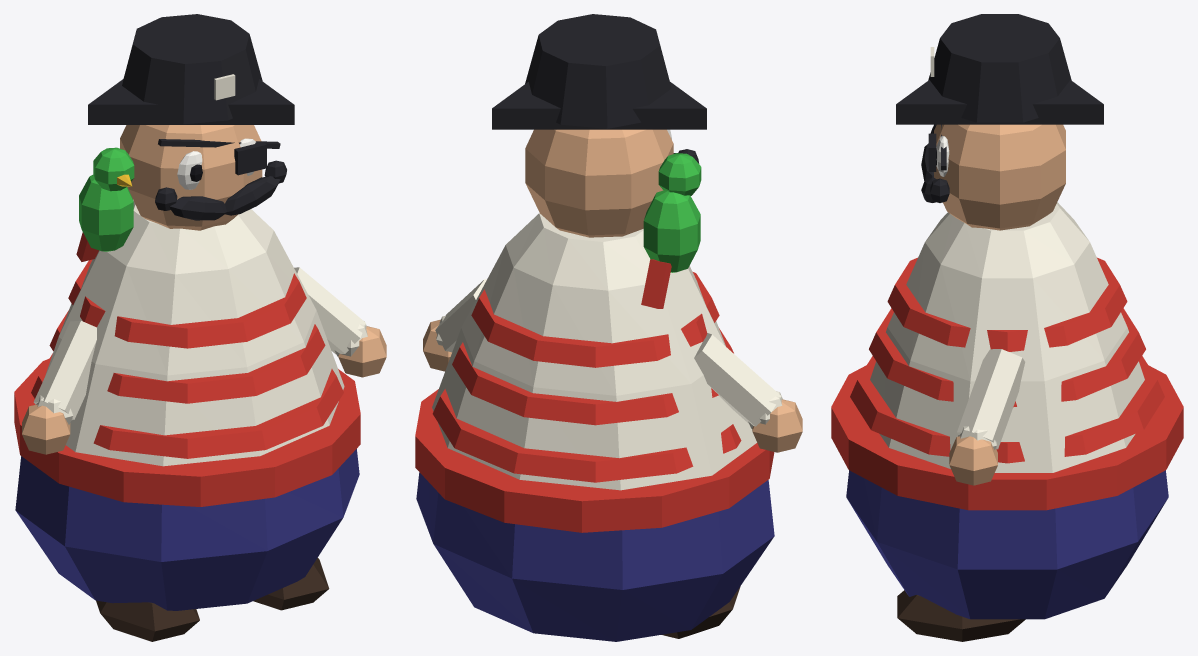
File: npc_fantoche.glb
3 renders of one model, left to right at view 1: azimuth 30°, elevation 25°; view 2: azimuth 150°, elevation 25°; view 3: azimuth 270°, elevation 25°, orthographic. The views are drawn at different scales.
Parts seen in each view (by area): view 1: body_fantoche_shirt, body_fantoche_pants, stripes_fantoche_stripe, sash_fantoche_stripe, hat_fantoche_black, head_skin_fantoche, arms_fantoche_shirt, parrot_parrot_green, legs_fantoche_boots, arms_skin_fantoche, mustache_fantoche_black, patch_fantoche_black (+1 smaller); view 2: body_fantoche_shirt, body_fantoche_pants, stripes_fantoche_stripe, hat_fantoche_black, sash_fantoche_stripe, head_skin_fantoche, parrot_parrot_green, arms_fantoche_shirt, arms_skin_fantoche, parrot_parrot_tail, legs_fantoche_boots; view 3: body_fantoche_shirt, body_fantoche_pants, stripes_fantoche_stripe, sash_fantoche_stripe, hat_fantoche_black, head_skin_fantoche, arms_fantoche_shirt, legs_fantoche_boots, arms_skin_fantoche, mustache_fantoche_black, patch_fantoche_black.
Boxes of the visible parts, box(x1,y1,x2,y2) form: body_fantoche_shirt: box(45, 201, 344, 466); body_fantoche_pants: box(15, 449, 359, 610); stripes_fantoche_stripe: box(31, 259, 343, 458); sash_fantoche_stripe: box(14, 359, 360, 506); hat_fantoche_black: box(88, 14, 294, 124); head_skin_fantoche: box(120, 125, 262, 230); arms_fantoche_shirt: box(33, 267, 367, 424); parrot_parrot_green: box(79, 147, 134, 251); legs_fantoche_boots: box(96, 558, 329, 641); arms_skin_fantoche: box(22, 326, 386, 454); mustache_fantoche_black: box(155, 160, 286, 220); patch_fantoche_black: box(158, 139, 280, 175); body_fantoche_shirt: box(432, 213, 756, 490); body_fantoche_pants: box(416, 472, 774, 641); stripes_fantoche_stripe: box(432, 272, 741, 482); hat_fantoche_black: box(492, 14, 706, 129); sash_fantoche_stripe: box(415, 389, 774, 532); head_skin_fantoche: box(525, 129, 673, 237); parrot_parrot_green: box(643, 153, 701, 272); arms_fantoche_shirt: box(435, 279, 782, 428); arms_skin_fantoche: box(423, 319, 802, 452); parrot_parrot_tail: box(641, 259, 671, 308); legs_fantoche_boots: box(661, 586, 740, 638); body_fantoche_shirt: box(870, 202, 1144, 472); body_fantoche_pants: box(846, 470, 1168, 619); stripes_fantoche_stripe: box(850, 257, 1164, 463); sash_fantoche_stripe: box(831, 365, 1183, 510); hat_fantoche_black: box(896, 14, 1103, 124); head_skin_fantoche: box(934, 124, 1065, 230); arms_fantoche_shirt: box(957, 349, 1025, 449); legs_fantoche_boots: box(897, 590, 1025, 641); arms_skin_fantoche: box(949, 436, 997, 485); mustache_fantoche_black: box(921, 126, 949, 202); patch_fantoche_black: box(928, 124, 946, 171).
Bounding box in the file's own units: 1.13 × 1.66 × 0.94.
